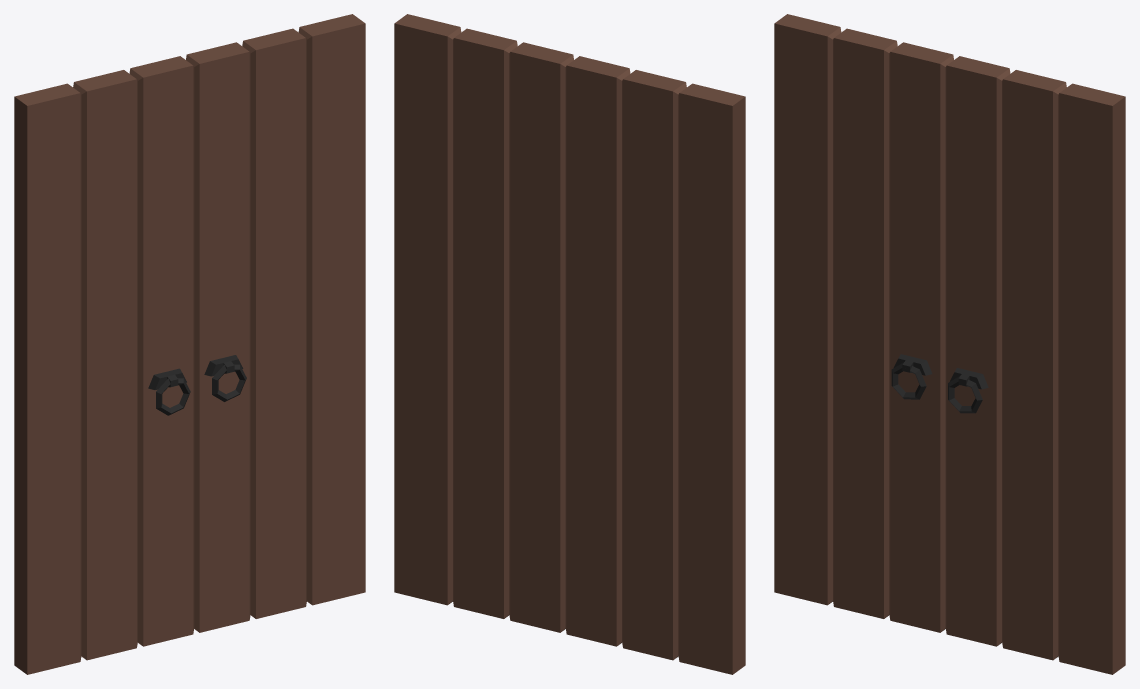
The model's file is LPHorror_WideDoor.fbx.
The picture shows the model from 3 angles, left to right: view 1: azimuth 30°, elevation 25°; view 2: azimuth 150°, elevation 25°; view 3: azimuth 330°, elevation 25°; orthographic projection.
Visible parts, largest first — view 1: WideDoor; view 2: WideDoor; view 3: WideDoor.
Boxes of the visible parts, x1=… form: WideDoor: x1=14, y1=14, x2=365, y2=674; WideDoor: x1=394, y1=14, x2=745, y2=674; WideDoor: x1=774, y1=14, x2=1125, y2=674.
Bounding box in the file's own units: 169 × 272 × 17.83.
